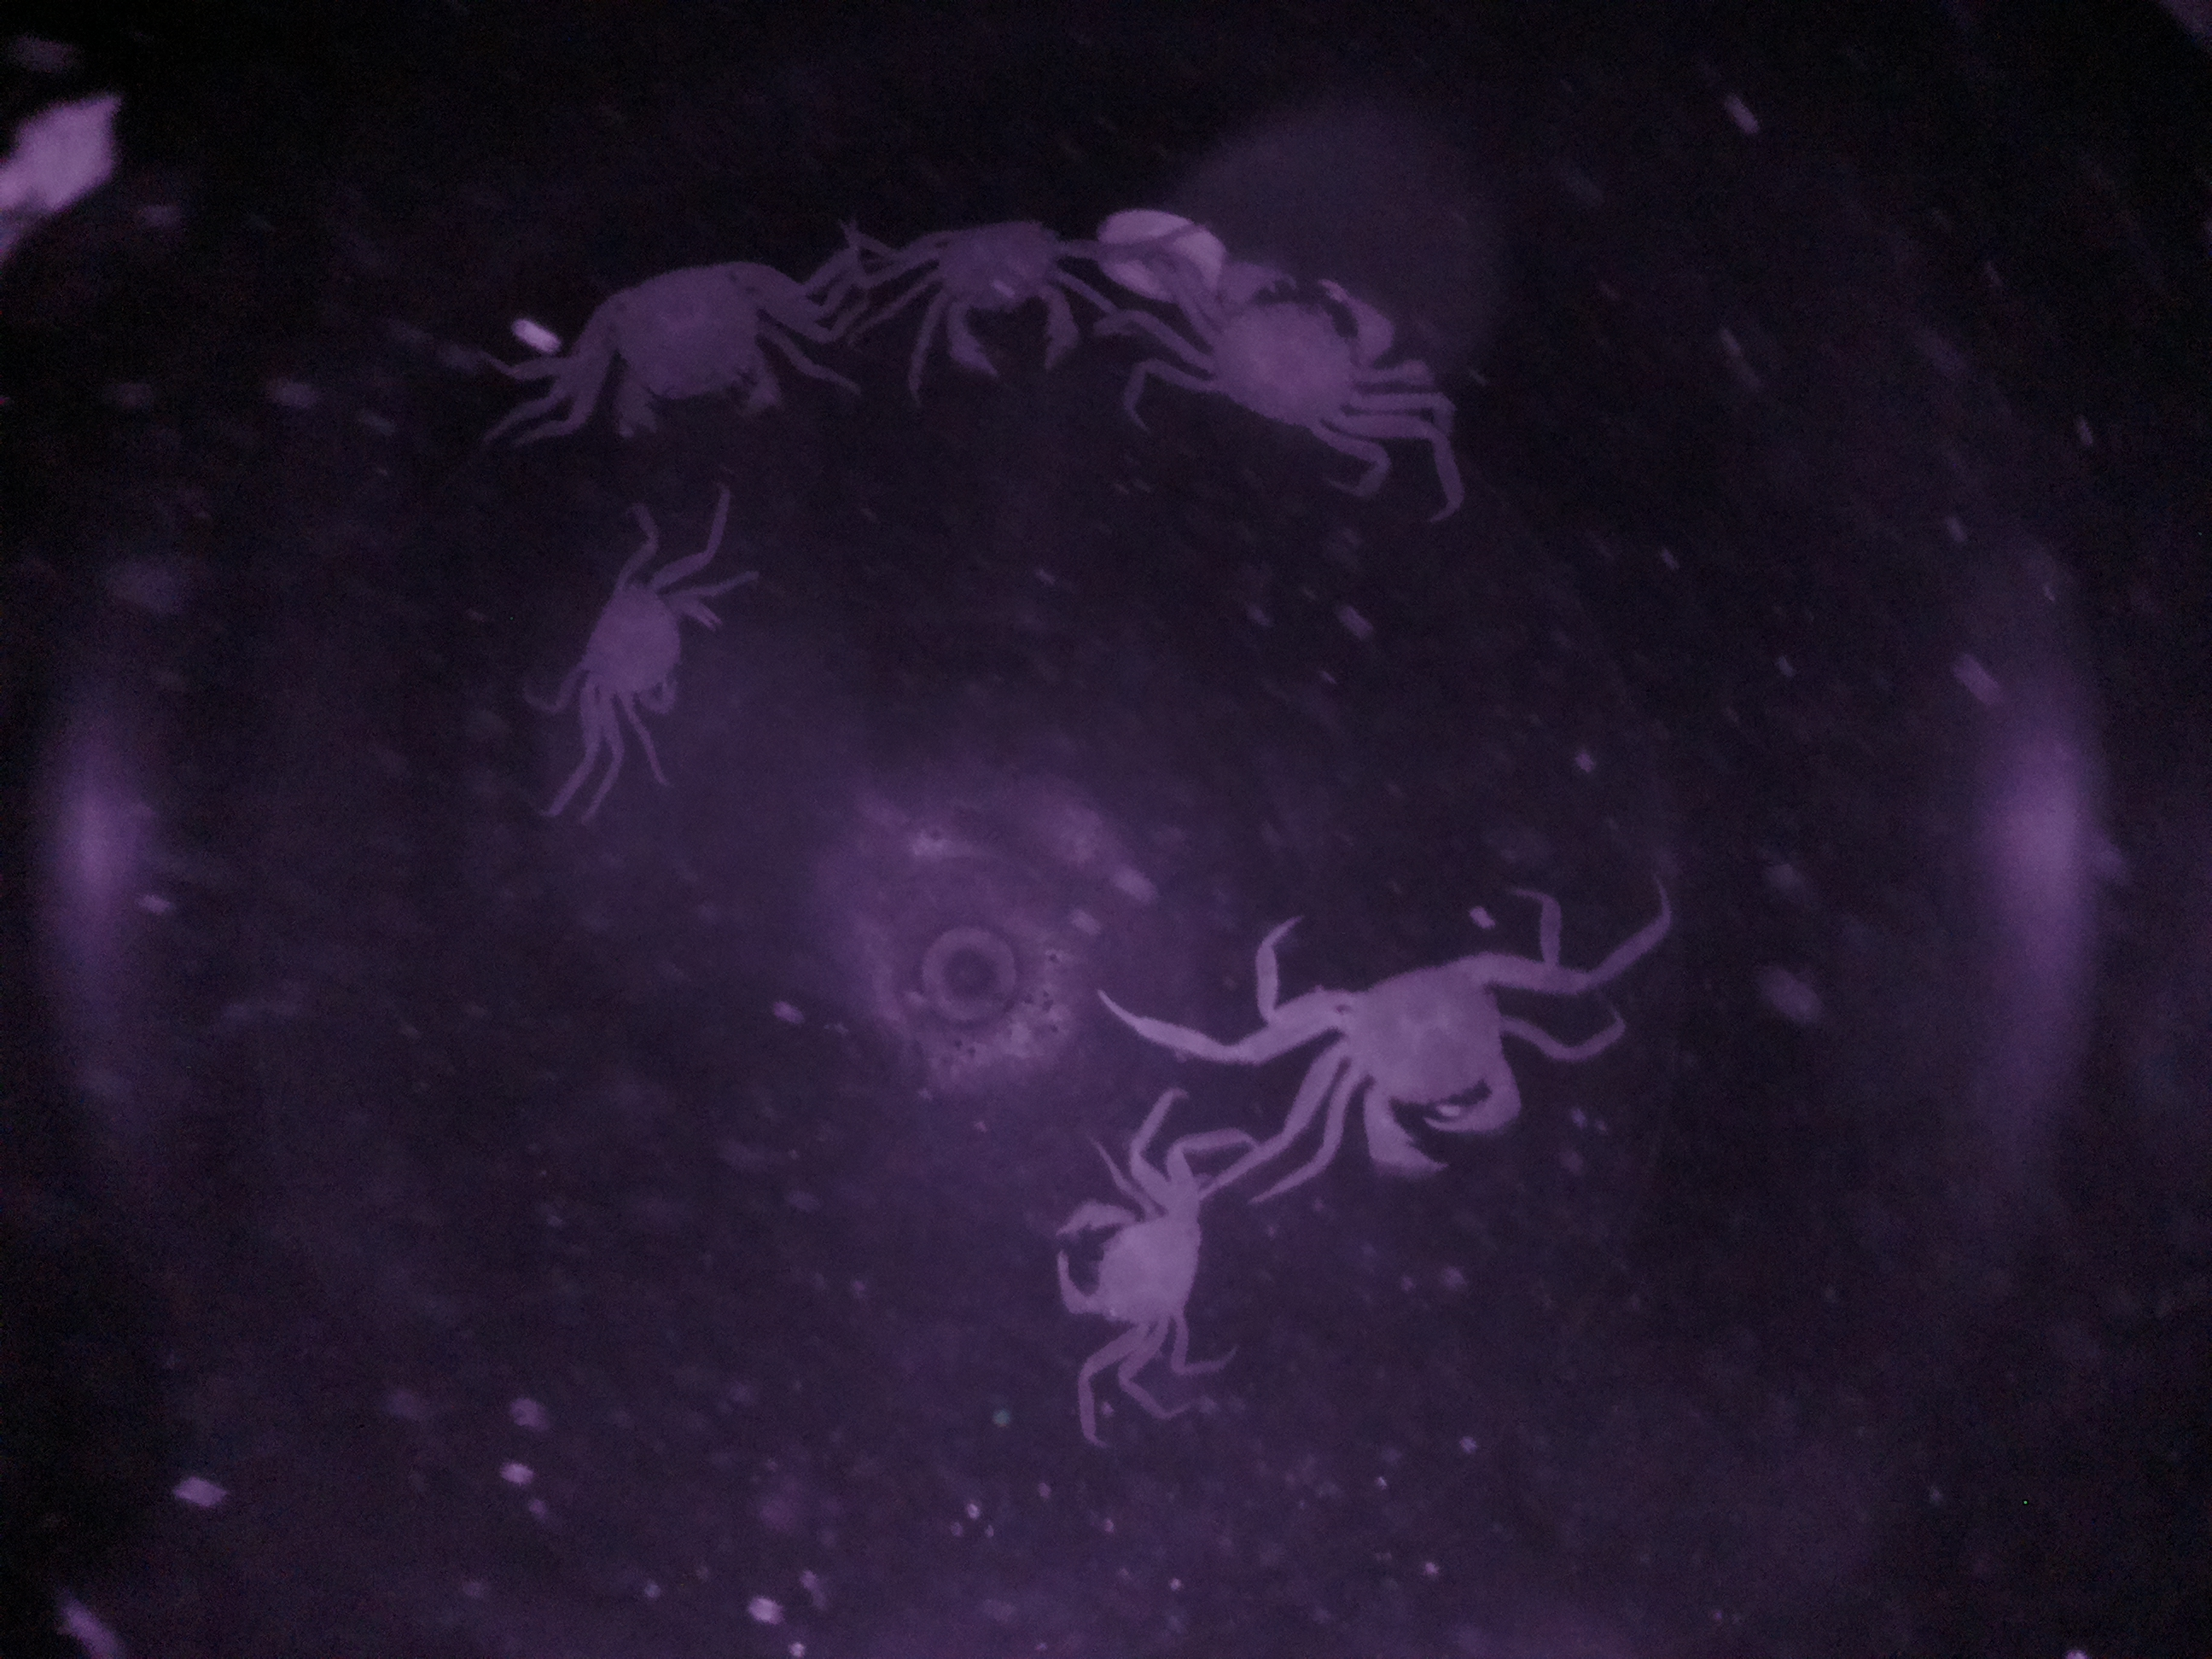Crab: (1256, 917, 1552, 1182), (545, 239, 852, 453), (1176, 237, 1449, 458), (1026, 1148, 1221, 1382), (545, 525, 728, 753)
